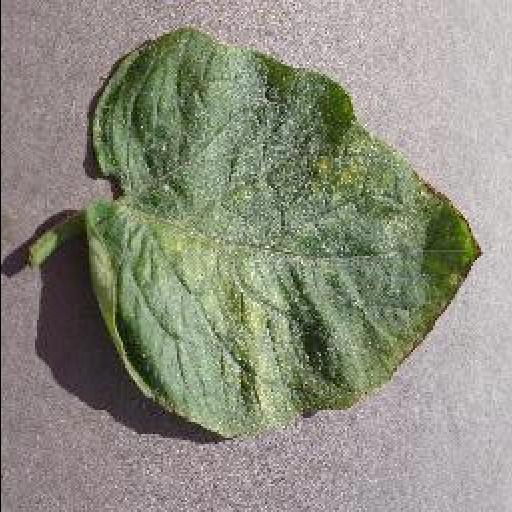disease_tomato: (80, 32, 482, 438)
